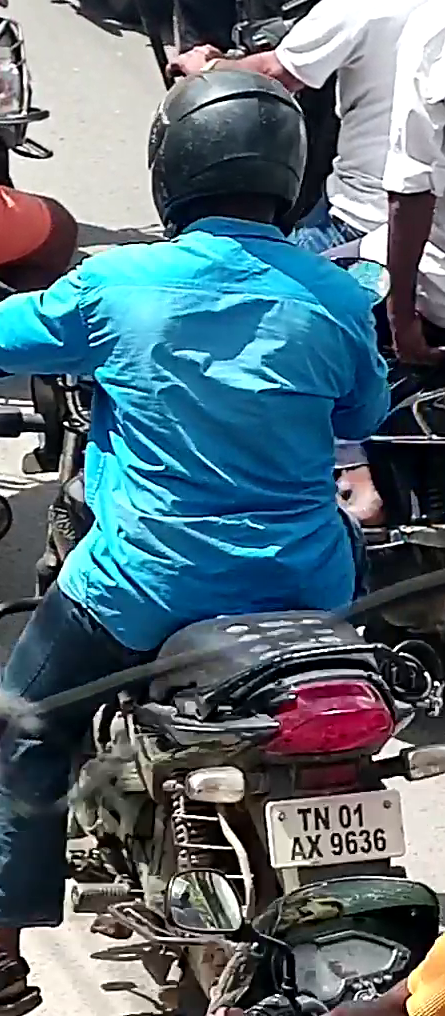0: (337, 804, 350, 829)
1: (352, 803, 364, 828)
3: (358, 830, 371, 853)
6: (372, 828, 386, 853), (344, 830, 358, 854)
9: (329, 832, 343, 856)
A: (289, 836, 305, 860)
N: (313, 806, 330, 831)
P16: (263, 790, 406, 871)
T: (295, 807, 311, 832)
X: (305, 834, 322, 860)
